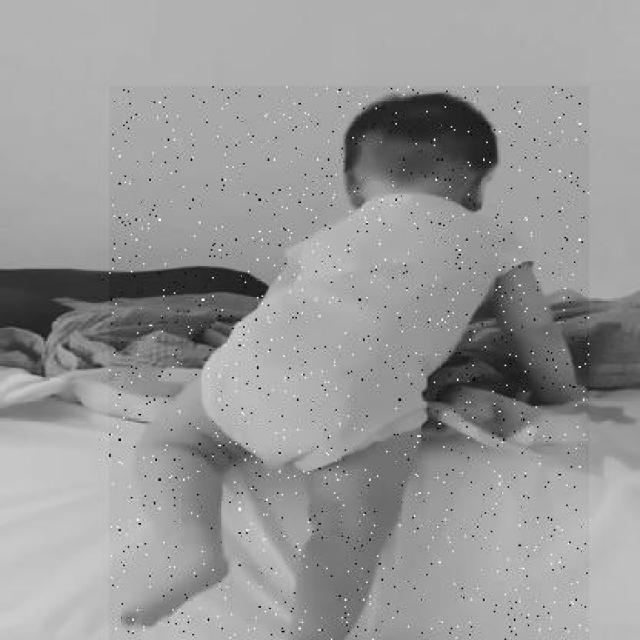child: (109, 86, 589, 640)
